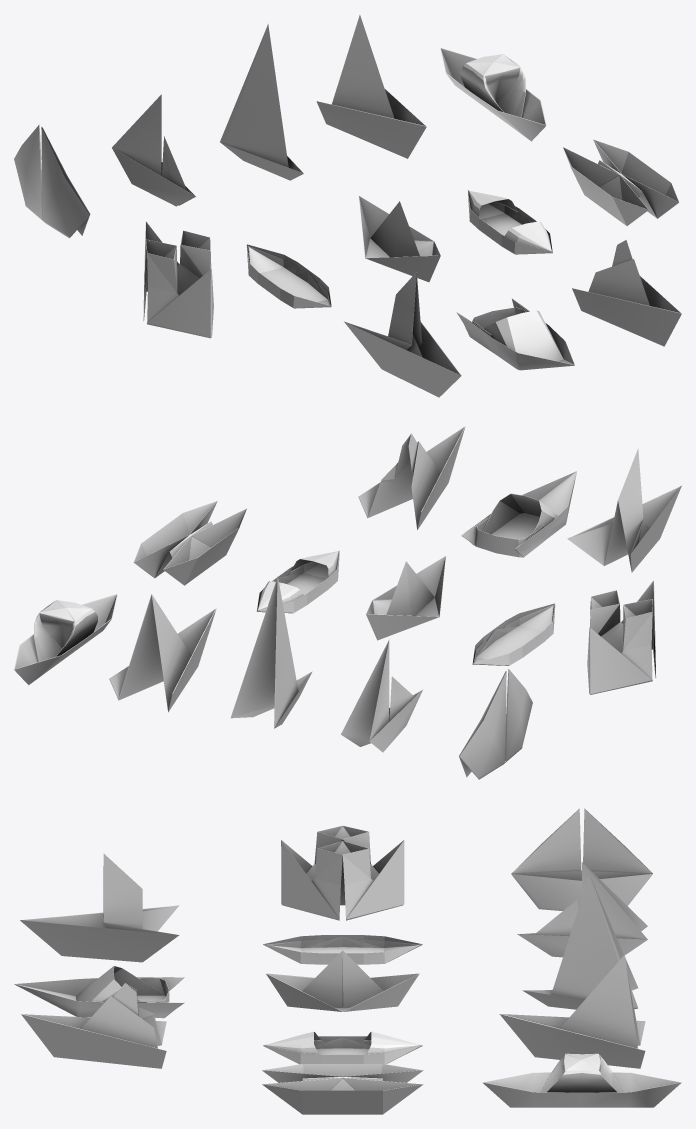
The model's file is origami_-_ships_and_boats.glb.
3 views of the same model, one above another, from view 1: azimuth 30°, elevation 25°; view 2: azimuth 150°, elevation 25°; view 3: azimuth 270°, elevation 25° (orthographic). The views are drawn at different scales.
Parts seen in each view (by area): view 1: Plane.019, Plane.010, Plane.014, Plane.011, Plane.013, Plane.026, Plane.024, Plane.021, Plane.023, Plane.018, Plane.015, Plane.016 (+1 smaller); view 2: Plane.019, Plane.010, Plane.014, Plane.021, Plane.013, Plane.011, Plane.026, Plane.024, Plane.023, Plane.018, Plane.015, Plane.017 (+1 smaller); view 3: Plane.019, Plane.023, Plane.010, Plane.011, Plane.026, Plane.024, Plane.013, Plane.014, Plane.015, Plane.021, Plane.016, Plane.018 (+1 smaller).
Boxes of the visible parts, x1,y1,x2,y2 form: Plane.019: [143, 221, 213, 338]; Plane.010: [316, 15, 426, 158]; Plane.014: [220, 24, 303, 180]; Plane.011: [344, 272, 461, 397]; Plane.013: [562, 139, 679, 225]; Plane.026: [572, 240, 681, 346]; Plane.024: [440, 48, 546, 141]; Plane.021: [456, 298, 574, 370]; Plane.023: [14, 124, 90, 238]; Plane.018: [112, 94, 195, 206]; Plane.015: [358, 196, 440, 282]; Plane.016: [467, 190, 552, 254]; Plane.019: [587, 580, 656, 694]; Plane.010: [109, 594, 216, 712]; Plane.014: [230, 576, 312, 728]; Plane.021: [461, 471, 576, 557]; Plane.013: [133, 501, 247, 585]; Plane.011: [567, 448, 681, 572]; Plane.026: [358, 426, 465, 529]; Plane.024: [14, 594, 117, 685]; Plane.023: [459, 669, 532, 779]; Plane.018: [341, 640, 422, 752]; Plane.015: [366, 556, 445, 640]; Plane.017: [472, 603, 555, 665]; Plane.019: [281, 825, 404, 920]; Plane.023: [511, 808, 652, 910]; Plane.010: [499, 955, 645, 1068]; Plane.011: [20, 853, 179, 962]; Plane.026: [21, 983, 166, 1068]; Plane.024: [482, 1053, 681, 1107]; Plane.013: [262, 1064, 423, 1114]; Plane.014: [522, 874, 638, 1009]; Plane.015: [266, 950, 419, 1011]; Plane.021: [14, 966, 184, 1018]; Plane.016: [263, 1031, 422, 1064]; Plane.018: [517, 862, 647, 957].
Size of the model in its own units: 2.07 by 0.5532 by 2.53.
1 material, 1 textured.
